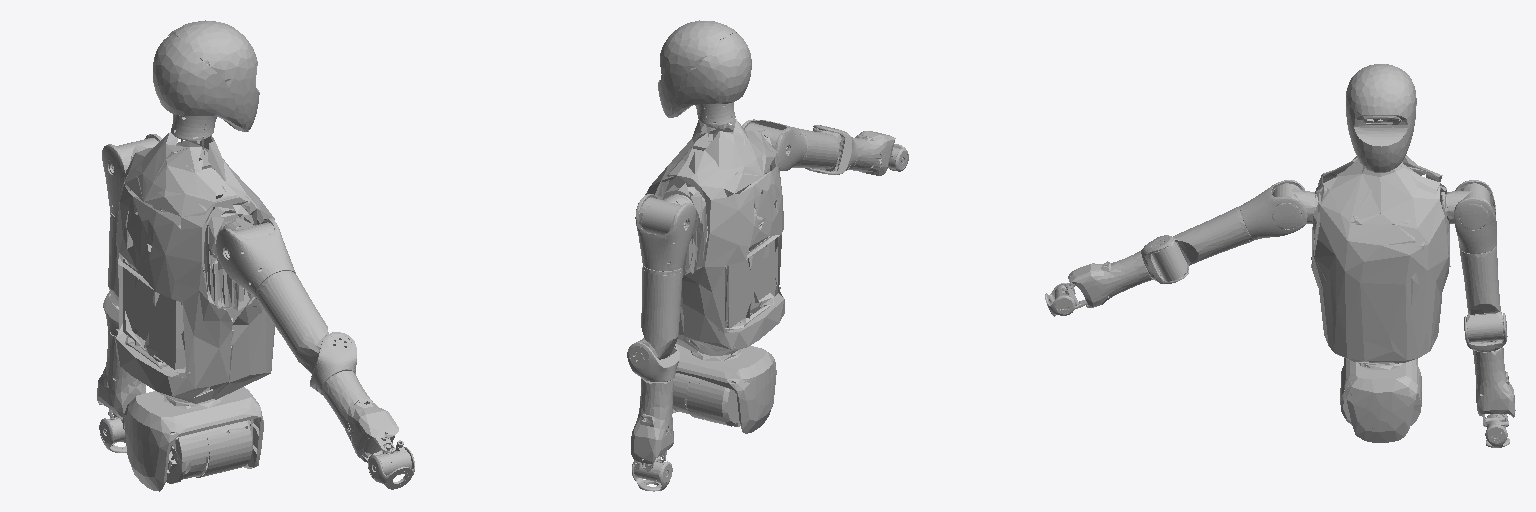
--- Render facts (derived) ---
The picture shows the robot from 3 angles, left to right: view 1: azimuth 30°, elevation 25°; view 2: azimuth 150°, elevation 25°; view 3: azimuth 270°, elevation 25°; orthographic projection.
Robot: humanoid — 38 links, 37 joints (19 revolute, 18 fixed); root link world; default pose: joints at zero except 2 at the middle of their limits (shoulder_roll_r_joint = -1.05, thumb_joint_0 = 0.75).
Visible links, largest first — view 1: waist_yaw_link, pelvis, head_roll_link, shoulder_yaw_r_link, elbow_yaw_r_link, shoulder_roll_r_link, elbow_yaw_l_link, elbow_pitch_r_link, shoulder_roll_l_link, head_yaw_link, wrist_roll_r_link, shoulder_yaw_l_link (+2 smaller); view 2: waist_yaw_link, pelvis, head_roll_link, shoulder_yaw_l_link, elbow_yaw_l_link, shoulder_roll_l_link, elbow_yaw_r_link, elbow_pitch_l_link, shoulder_yaw_r_link, shoulder_pitch_l_link, shoulder_roll_r_link, elbow_pitch_r_link (+1 smaller); view 3: waist_yaw_link, head_roll_link, pelvis, shoulder_yaw_r_link, shoulder_yaw_l_link, elbow_yaw_r_link, shoulder_roll_r_link, shoulder_roll_l_link, elbow_yaw_l_link, elbow_pitch_r_link, shoulder_pitch_l_link, shoulder_pitch_r_link.
Boxes of the visible links, x1,y1,x2,y2 form: waist_yaw_link: (116, 132, 274, 403); pelvis: (124, 387, 263, 491); head_roll_link: (153, 20, 259, 131); shoulder_yaw_r_link: (256, 271, 328, 373); elbow_yaw_r_link: (321, 371, 398, 462); shoulder_roll_r_link: (216, 218, 295, 298); elbow_yaw_l_link: (97, 331, 145, 429); elbow_pitch_r_link: (310, 332, 356, 394); shoulder_roll_l_link: (102, 134, 161, 217); head_yaw_link: (171, 114, 216, 140); wrist_roll_r_link: (368, 447, 414, 489); shoulder_yaw_l_link: (108, 212, 118, 306); waist_yaw_link: (645, 119, 784, 355); pelvis: (673, 344, 776, 433); head_roll_link: (658, 20, 751, 117); shoulder_yaw_l_link: (636, 266, 682, 359); elbow_yaw_l_link: (631, 378, 673, 471); shoulder_roll_l_link: (635, 194, 695, 270); elbow_yaw_r_link: (840, 131, 895, 175); elbow_pitch_l_link: (627, 343, 679, 381); shoulder_yaw_r_link: (792, 127, 841, 171); shoulder_pitch_l_link: (639, 194, 692, 234); shoulder_roll_r_link: (742, 119, 806, 170); elbow_pitch_r_link: (805, 125, 857, 174); waist_yaw_link: (1311, 155, 1450, 365); head_roll_link: (1346, 64, 1416, 172); pelvis: (1340, 358, 1421, 442); shoulder_yaw_r_link: (1152, 206, 1253, 281); shoulder_yaw_l_link: (1460, 246, 1503, 342); elbow_yaw_r_link: (1062, 251, 1152, 308); shoulder_roll_r_link: (1240, 180, 1307, 239); shoulder_roll_l_link: (1454, 180, 1496, 253); elbow_yaw_l_link: (1472, 347, 1515, 426); elbow_pitch_r_link: (1141, 235, 1188, 283); shoulder_pitch_l_link: (1443, 183, 1490, 224); shoulder_pitch_r_link: (1272, 183, 1318, 223).
Bounding box of the posed robot: 0.2687 × 1.08 × 0.9587 m (x, y, z).
Meshes: 32 distinct files referenced, 19 mesh visuals loaded (19 binary STL); not drawn: 13 (reference not matched to a file when rendering).

robot.urdf — humanoid:
<?xml version="1.0" encoding="utf-8"?>
<!-- This URDF was automatically created by SolidWorks to URDF Exporter! Originally created by Stephen Brawner ([email redacted]) 
     Commit Version: 1.6.0-4-g7f85cfe  Build Version: 1.6.7995.38578
     For more information, please see http://wiki.ros.org/sw_urdf_exporter -->
<robot
  name="humanoid">
  <mujoco>
    <compiler meshdir="meshes"/>
  </mujoco>
  <link name="world"/>
  <joint name="pelvis_fixed_joint" type="fixed">
      <origin
        xyz="0 0 0"
        rpy="0 0 0" />
     <parent link="world"/>
     <child link="pelvis"/>
   </joint>
  <link
    name="pelvis">
    <inertial>
      <origin
        xyz="-0.000641 0.000723  -0.074769"
        rpy="0 0 0" />
      <mass
        value="6.094610" />
      <inertia
        ixx="0.020607"
        ixy="0.004335"
        ixz="0.000046"
        iyy="0.027481"
        iyz="-0.000037"
        izz="0.028105" />
    </inertial>
    <visual>
      <origin
        xyz="0 0 0"
        rpy="0 0 0" />
      <geometry>
        <mesh
          filename="pelvis.STL" />
      </geometry>
      <material
        name="">
        <color
          rgba="0.752941176470588 0.752941176470588 0.752941176470588 1" />
      </material>
    </visual>
    <collision>
      <origin
        xyz="0 0 0"
        rpy="0 0 0" />
      <geometry>
        <mesh
          filename="pelvis.STL" />
      </geometry>
    </collision>
  </link>

  <!-- BEGIN LEG LINKS/Joints
  <link
    name="hip_roll_l_link">
    <inertial>
      <origin
        xyz="-0.001848 0.055849 -0.036017"
        rpy="0 0 0" />
      <mass
        value="0.672983" />
      <inertia
        ixx="0.001020"
        ixy="0.000070"
        ixz="-0.000038"
        iyy="0.003221"
        iyz="-0.000281"
        izz="0.003272" />
    </inertial>
    <visual>
      <origin
        xyz="0 0 0"
        rpy="0 0 0" />
      <geometry>
        <mesh
          filename="hip_roll_l_link.STL" />
      </geometry>
      <material
        name="">
        <color
          rgba="0.752941176470588 0.752941176470588 0.752941176470588 1" />
      </material>
    </visual>
    <collision>
      <origin
        xyz="0 0 0"
        rpy="0 0 0" />
      <geometry>
        <mesh
          filename="hip_roll_l_link.STL" />
      </geometry>
    </collision>
  </link>

  <joint
    name="hip_roll_l_joint"
    type="fixed">
    <origin
      xyz="0 0.028 -0.0857"
      rpy="0 0 0" />
    <parent
      link="pelvis" />
    <child
      link="hip_roll_l_link" />
    <axis
      xyz="1 0 0" />
    <limit effort="160" lower="-0.79" upper="0.79" velocity="15.6"/>
  </joint>

  <link
    name="hip_pitch_l_link">
    <inertial>
      <origin
        xyz="0.001125 0.001644 -0.011770"
        rpy="0 0 0" />
      <mass
        value="4.227933" />
      <inertia
        ixx="0.016785"
        ixy="0.000022"
        ixz="-0.000255"
        iyy="0.025135"
        iyz="0.000012"
        izz="0.015273" />
    </inertial>
    <visual>
      <origin
        xyz="0 0 0"
        rpy="0 0 0" />
      <geometry>
        <mesh
          filename="hip_pitch_l_link.STL" />
      </geometry>
      <material
        name="">
        <color
          rgba="0.752941176470588 0.752941176470588 0.752941176470588 1" />
      </material>
    </visual>
    <collision>
      <origin
        xyz="0 0 0"
        rpy="0 0 0" />
      <geometry>
        <mesh
          filename="hip_pitch_l_link.STL" />
      </geometry>
    </collision>
  </link>

  <joint
    name="hip_pitch_l_joint"
    type="fixed">
    <origin
      xyz="0 0.122 -0.046"
      rpy="0 -1.43 0" />
    <parent
      link="hip_roll_l_link" />
    <child
      link="hip_pitch_l_link" />
    <axis
      xyz="0 1 0" />
    <limit effort="300" lower="-2.79" upper="2.09" velocity="12.5"/>
  </joint>

  <link
    name="hip_yaw_l_link">
    <inertial>
      <origin
        xyz="0.004124 -0.006494 -0.119737"
        rpy="0 0 0" />
      <mass
        value="6.572700" />
      <inertia
        ixx="0.056043"
        ixy="0.000146"
        ixz="-0.000059"
        iyy="0.063286"
        iyz="0.001030"
        izz="0.021108" />
    </inertial>
    <visual>
      <origin
        xyz="0 0 0"
        rpy="0 0 0" />
      <geometry>
        <mesh
          filename="hip_yaw_l_link.STL" />
      </geometry>
      <material
        name="">
        <color
          rgba="0.752941176470588 0.752941176470588 0.752941176470588 1" />
      </material>
    </visual>
    <collision>
      <origin
        xyz="0 0 0"
        rpy="0 0 0" />
      <geometry>
        <mesh
          filename="hip_yaw_l_link.STL" />
      </geometry>
    </collision>
  </link>

  <joint
    name="hip_yaw_l_joint"
    type="fixed">
    <origin
      xyz="0 0 -0.0987"
      rpy="0 0 0" />
    <parent
      link="hip_pitch_l_link" />
    <child
      link="hip_yaw_l_link" />
    <axis
      xyz="0 0 1" />
    <limit effort="160" lower="-1.04" upper="1.04" velocity="15.6"/>  
  </joint>

  <link
    name="knee_pitch_l_link">
    <inertial>
      <origin
        xyz="0.007489 0.001584  -0.167773"
        rpy="0 0 0" />
      <mass
        value="3.017992" />
      <inertia
        ixx="0.035604"
        ixy="0.000037"
        ixz="0.001830"
        iyy="0.036226"
        iyz="0.000475"
        izz="0.001951" />
    </inertial>
    <visual>
      <origin
        xyz="0 0 0"
        rpy="0 0 0" />
      <geometry>
        <mesh
          filename="knee_pitch_l_link.STL" />
      </geometry>
      <material
        name="">
        <color
          rgba="0.752941176470588 0.752941176470588 0.752941176470588 1" />
      </material>
    </visual>
    <collision>
      <origin
        xyz="0 0 0"
        rpy="0 0 0" />
      <geometry>
        <mesh
          filename="knee_pitch_l_link.STL" />
      </geometry>
    </collision>
  </link>

  <joint
    name="knee_pitch_l_joint"
    type="fixed">
    <origin
      xyz="0 -4.2833E-05 -0.3013"
      rpy="0 1.65 0" />
    <parent
      link="hip_yaw_l_link" />
    <child
      link="knee_pitch_l_link" />
    <axis
      xyz="0 1 0" />
    <limit effort="300" lower="0.0" upper="2.39" velocity="12.5"/>
  </joint>

  <link
    name="ankle_pitch_l_link">
    <inertial>
      <origin
        xyz="1.23076545482746E-09 5.88533416445713E-10 -3.14193115968919E-14"
        rpy="0 0 0" />
      <mass
        value="0.111609" />
      <inertia
        ixx="0.000018"
        ixy="9.12795578499149E-18"
        ixz="-8.5550749402341E-12"
        iyy="0.000018"
        iyz="2.59346326737996E-11"
        izz="0.000032" />
    </inertial>
    <visual>
      <origin
        xyz="0 0 0"
        rpy="0 0 0" />
      <geometry>
        <mesh
          filename="ankle_pitch_l_link.STL" />
      </geometry>
      <material
        name="">
        <color
          rgba="0.752941176470588 0.752941176470588 0.752941176470588 1" />
      </material>
    </visual>
    <collision>
      <origin
        xyz="0 0 0"
        rpy="0 0 0" />
      <geometry>
        <mesh
          filename="ankle_pitch_l_link.STL" />
      </geometry>
    </collision>
  </link>

  <joint
    name="ankle_pitch_l_joint"
    type="fixed">
    <origin
      xyz="0 0 -0.4"
      rpy="0 0 0" />
    <parent
      link="knee_pitch_l_link" />
    <child
      link="ankle_pitch_l_link" />
    <axis
      xyz="0 1 0" />
    <limit effort="60" lower="-1.22" upper="0.5236" velocity="12.8"/>
  </joint>

  <link
    name="ankle_roll_l_link">
    <inertial>
      <origin
        xyz="0.021235 -4.62707223369829E-08 -0.032883"
        rpy="0 0 0" />
      <mass
        value="1.017381" />
      <inertia
        ixx="0.001028"
        ixy="4.59557401077979E-08"
        ixz="-0.000622"
        iyy="0.006055"
        iyz="4.78117170569023E-10"
        izz="0.006240" />
    </inertial>
    <visual>
      <origin
        xyz="0 0 0"
        rpy="0 0 0" />
      <geometry>
        <mesh
          filename="ankle_roll_l_link.STL" />
      </geometry>
      <material
        name="">
        <color
          rgba="0.752941176470588 0.752941176470588 0.752941176470588 1" />
      </material>
    </visual>
    <collision>
      <origin
        xyz="0 0 0"
        rpy="0 0 0" />
      <geometry>
        <mesh
          filename="ankle_roll_l_link.STL" />
      </geometry>
    </collision>
  </link>

  <joint
    name="ankle_roll_l_joint"
    type="fixed">
    <origin
      xyz="0 0 0"
      rpy="0 0 0" />
    <parent
      link="ankle_pitch_l_link" />
    <child
      link="ankle_roll_l_link" />
    <axis
      xyz="1 0 0" />
    <limit effort="30" lower="-0.4363" upper="0.4363" velocity="7.8"/>
  </joint>

  <link
    name="hip_roll_r_link">
    <inertial>
      <origin
        xyz="-0.001848 -0.055849 -0.036017"
        rpy="0 0 0" />
      <mass
        value="0.672983" />
      <inertia
        ixx="0.001020"
        ixy="-0.000070"
        ixz="-0.000038"
        iyy="0.003221"
        iyz="0.000281"
        izz="0.003272" />
    </inertial>
    <visual>
      <origin
        xyz="0 0 0"
        rpy="0 0 0" />
      <geometry>
        <mesh
          filename="hip_roll_r_link.STL" />
      </geometry>
      <material
        name="">
        <color
          rgba="0.752941176470588 0.752941176470588 0.752941176470588 1" />
      </material>
    </visual>
    <collision>
      <origin
        xyz="0 0 0"
        rpy="0 0 0" />
      <geometry>
        <mesh
          filename="hip_roll_r_link.STL" />
      </geometry>
    </collision>
  </link>
  <joint
    name="hip_roll_r_joint"
    type="fixed">
    <origin
      xyz="0 -0.028 -0.0857"
      rpy="0 0 0" />
    <parent
      link="pelvis" />
    <child
      link="hip_roll_r_link" />
    <axis
      xyz="1 0 0" />
    <limit effort="160" lower="-0.79" upper="0.79" velocity="15.6"/>
  </joint>
  <link
    name="hip_pitch_r_link">
    <inertial>
      <origin
        xyz="0.001125 -0.001644 -0.011770"
        rpy="0 0 0" />
      <mass
        value="4.227933" />
      <inertia
        ixx="0.016785"
        ixy="-0.000022"
        ixz="-0.000255"
        iyy="0.025135"
        iyz="-0.000012"
        izz="0.015273" />
    </inertial>
    <visual>
      <origin
        xyz="0 0 0"
        rpy="0 0 0" />
      <geometry>
        <mesh
          filename="hip_pitch_r_link.STL" />
      </geometry>
      <material
        name="">
        <color
          rgba="0.752941176470588 0.752941176470588 0.752941176470588 1" />
      </material>
    </visual>
    <collision>
      <origin
        xyz="0 0 0"
        rpy="0 0 0" />
      <geometry>
        <mesh
          filename="hip_pitch_r_link.STL" />
      </geometry>
    </collision>
  </link>
  <joint
    name="hip_pitch_r_joint"
    type="fixed">
    <origin
      xyz="0 -0.122 -0.046"
      rpy="0 -1.43 0" />
    <parent
      link="hip_roll_r_link" />
    <child
      link="hip_pitch_r_link" />
    <axis
      xyz="0 1 0" />
    <limit effort="300" lower="-2.79" upper="2.09" velocity="12.5"/>
  </joint>
  <link
    name="hip_yaw_r_link">
    <inertial>
      <origin
        xyz="0.003740 0.005658 -0.117755"
        rpy="0 0 0" />
      <mass
        value="7.182896" />
      <inertia
        ixx="0.057773"
        ixy="-0.000105"
        ixz="-0.000124"
        iyy="0.064848"
        iyz="-0.001431"
        izz="0.022867" />
    </inertial>
    <visual>
      <origin
        xyz="0 0 0"
        rpy="0 0 0" />
      <geometry>
        <mesh
          filename="hip_yaw_r_link.STL" />
      </geometry>
      <material
        name="">
        <color
          rgba="0.752941176470588 0.752941176470588 0.752941176470588 1" />
      </material>
    </visual>
    <collision>
      <origin
        xyz="0 0 0"
        rpy="0 0 0" />
      <geometry>
        <mesh
          filename="hip_yaw_r_link.STL" />
      </geometry>
    </collision>
  </link>
  <joint
    name="hip_yaw_r_joint"
    type="fixed">
    <origin
      xyz="0 0 -0.0987"
      rpy="0 0 0" />
    <parent
      link="hip_pitch_r_link" />
    <child
      link="hip_yaw_r_link" />
    <axis
      xyz="0 0 1" />
    <limit effort="160" lower="-1.04" upper="1.04" velocity="15.6"/>  
  </joint>

  <link
    name="knee_pitch_r_link">
    <inertial>
      <origin
        xyz="0.007489 -0.001584  -0.167773"
        rpy="0 0 0" />
      <mass
        value="3.017992" />
      <inertia
        ixx="0.035604"
        ixy="-0.000037"
        ixz="0.001830"
        iyy="0.036226"
        iyz="-0.000475"
        izz="0.001951" />
    </inertial>
    <visual>
      <origin
        xyz="0 0 0"
        rpy="0 0 0" />
      <geometry>
        <mesh
          filename="knee_pitch_r_link.STL" />
      </geometry>
      <material
        name="">
        <color
          rgba="0.752941176470588 0.752941176470588 0.752941176470588 1" />
      </material>
    </visual>
    <collision>
      <origin
        xyz="0 0 0"
        rpy="0 0 0" />
      <geometry>
        <mesh
          filename="knee_pitch_r_link.STL" />
      </geometry>
    </collision>
  </link>

  <joint
    name="knee_pitch_r_joint"
    type="fixed">
    <origin
      xyz="0 0.00015001 -0.3013"
      rpy="0 1.65 0" />
    <parent
      link="hip_yaw_r_link" />
    <child
      link="knee_pitch_r_link" />
    <axis
      xyz="0 1 0" />
    <limit effort="300" lower="0.0" upper="2.39" velocity="12.5"/>
  </joint>

  <link
    name="ankle_pitch_r_link">
    <inertial>
      <origin
        xyz="1.23076545482746E-09 -5.88533416445713E-10 -3.14193115968919E-14"
        rpy="0 0 0" />
      <mass
        value="0.111609" />
      <inertia
        ixx="0.000018"
        ixy="-9.12795578499149E-18"
        ixz="-8.5550749402341E-12"
        iyy="0.000018"
        iyz="-2.59346326737996E-11"
        izz="0.000032" />
    </inertial>
    <visual>
      <origin
        xyz="0 0 0"
        rpy="0 0 0" />
      <geometry>
        <mesh
          filename="ankle_pitch_r_link.STL" />
      </geometry>
      <material
        name="">
        <color
          rgba="0.752941176470588 0.752941176470588 0.752941176470588 1" />
      </material>
    </visual>
    <collision>
      <origin
        xyz="0 0 0"
        rpy="0 0 0" />
      <geometry>
        <mesh
          filename="ankle_pitch_r_link.STL" />
      </geometry>
    </collision>
  </link>

  <joint
    name="ankle_pitch_r_joint"
    type="fixed">
    <origin
      xyz="0 0.00074981 -0.4"
      rpy="0 0 0" />
    <parent
      link="knee_pitch_r_link" />
    <child
      link="ankle_pitch_r_link" />
    <axis
      xyz="0 1 0" />
    <limit effort="60" lower="-1.22" upper="0.5236" velocity="12.8"/>
  </joint>

  <link
    name="ankle_roll_r_link">
    <inertial>
      <origin
        xyz="0.021235 4.62707223369829E-08 -0.032883"
        rpy="0 0 0" />
      <mass
        value="1.017381" />
      <inertia
        ixx="0.001028"
        ixy="-4.59557401077979E-08"
        ixz="-0.000622"
        iyy="0.006055"
        iyz="-4.78117170569023E-10"
        izz="0.006240" />
    </inertial>
    <visual>
      <origin
        xyz="0 0 0"
        rpy="0 0 0" />
      <geometry>
        <mesh
          filename="ankle_roll_r_link.STL" />
      </geometry>
      <material
        name="">
        <color
          rgba="0.752941176470588 0.752941176470588 0.752941176470588 1" />
      </material>
    </visual>
    <collision>
      <origin
        xyz="0 0 0"
        rpy="0 0 0" />
      <geometry>
        <mesh
          filename="ankle_roll_r_link.STL" />
      </geometry>
    </collision>
  </link>

  <joint
    name="ankle_roll_r_joint"
    type="fixed">
    <origin
      xyz="0 0 0"
      rpy="0 0 0" />
    <parent
      link="ankle_pitch_r_link" />
    <child
      link="ankle_roll_r_link" />
    <axis
      xyz="1 0 0" />
    <limit effort="30" lower="-0.4363" upper="0.4363" velocity="7.8"/>
  </joint>
  END LEG LINKS/Joints -->

  <link
    name="waist_yaw_link">
    <inertial>
      <origin
        xyz="-0.000568 0.000560 0.231488"
        rpy="0 0 0" />
      <mass
        value="22.445155" />
      <inertia
        ixx="0.429034"
        ixy="-0.000293"
        ixz="0.003462"
        iyy="0.379055"
        iyz="-0.000237"
        izz="0.177142" />
    </inertial>
    <visual>
      <origin
        xyz="0 0 0"
        rpy="0 0 0" />
      <geometry>
        <mesh
          filename="waist_yaw_link.STL" />
      </geometry>
      <material
        name="">
        <color
          rgba="0.752941176470588 0.752941176470588 0.752941176470588 1" />
      </material>
    </visual>
    <collision>
      <origin
        xyz="0 0 0"
        rpy="0 0 0" />
      <geometry>
        <mesh
          filename="waist_yaw_link.STL" />
      </geometry>
    </collision>
  </link>

  <joint
    name="waist_yaw_joint"
    type="fixed">
    <origin
      xyz="0 0 0"
      rpy="0 0 0" />
    <parent
      link="pelvis" />
    <child
      link="waist_yaw_link" />
    <axis
      xyz="0 0 1" />
    <limit effort="120" lower="-2.96" upper="3.14" velocity="7.0"/>
  </joint>

  <link
    name="head_yaw_link">
    <inertial>
      <origin
        xyz="-0.000198116284628826 0.000454283135208022 0.00724627742538442"
        rpy="0 0 0" />
      <mass
        value="0.0883927289639252" />
      <inertia
        ixx="0.000095"
        ixy="0.000001"
        ixz="0.000003"
        iyy="0.000076"
        iyz="0.000003"
        izz="0.000106" />
    </inertial>
    <visual>
      <origin
        xyz="0 0 0"
        rpy="0 0 0" />
      <geometry>
        <mesh
          filename="head_yaw_link.STL" />
      </geometry>
      <material
        name="">
        <color
          rgba="0.752941176470588 0.752941176470588 0.752941176470588 1" />
      </material>
    </visual>
    <collision>
      <origin
        xyz="0 0 0"
        rpy="0 0 0" />
      <geometry>
        <mesh
          filename="head_yaw_link.STL" />
      </geometry>
    </collision>
  </link>

  <joint
    name="head_yaw_joint"
    type="fixed">
    <origin
      xyz="-0.002 0 0.56508"
      rpy="0 0 0" />
    <parent
      link="waist_yaw_link" />
    <child
      link="head_yaw_link" />
    <axis
      xyz="0 0 1" />
    <limit effort="9" lower="-1.57" upper="1.57" velocity="7.2"/>
  </joint>

  <link
    name="head_pitch_link">
    <inertial>
      <origin
        xyz="-0.000274 0.004118 0.000023"
        rpy="0 0 0" />
      <mass
        value="0.230460" />
      <inertia
        ixx="0.000092"
        ixy="-0.000001"
        ixz="0.000001"
        iyy="0.000054"
        iyz="-7.30725289619866E-08"
        izz="0.000095" />
    </inertial>
    <visual>
      <origin
        xyz="0 0 0"
        rpy="0 0 0" />
      <geometry>
        <mesh
          filename="head_pitch_link.STL" />
      </geometry>
      <material
        name="">
        <color
          rgba="0.752941176470588 0.752941176470588 0.752941176470588 1" />
      </material>
    </visual>
    <collision>
      <origin
        xyz="0 0 0"
        rpy="0 0 0" />
      <geometry>
        <mesh
          filename="head_pitch_link.STL" />
      </geometry>
    </collision>
  </link>

  <joint
    name="head_pitch_joint"
    type="fixed">
    <origin
      xyz="0.01455 0 0.0304"
      rpy="0 0.2618 0" />
    <parent
      link="head_yaw_link" />
    <child
      link="head_pitch_link" />
    <axis
      xyz="0 1 0" />
    <limit effort="9" lower="-0.43" upper="0.43" velocity="7.2"/>
  </joint>

  <link
    name="head_roll_link">
    <inertial>
      <origin
        xyz="0.022467 0.001208  0.053952"
        rpy="0 0 0" />
      <mass
        value="0.844627" />
      <inertia
        ixx="0.002350"
        ixy="-0.000038"
        ixz="-0.000436"
        iyy="0.003365"
        iyz="-0.000006"
        izz="0.002875" />
    </inertial>
    <visual>
      <origin
        xyz="0 0 0"
        rpy="0 0 0" />
      <geometry>
        <mesh
          filename="head_roll_link.STL" />
      </geometry>
      <material
        name="">
        <color
          rgba="0.752941176470588 0.752941176470588 0.752941176470588 1" />
      </material>
    </visual>
    <collision>
      <origin
        xyz="0 0 0"
        rpy="0 0 0" />
      <geometry>
        <mesh
          filename="head_roll_link.STL" />
      </geometry>
    </collision>
  </link>

  <joint
    name="head_roll_joint"
    type="fixed">
    <origin
      xyz="0 0 0"
      rpy="0 0 0" />
    <parent
      link="head_pitch_link" />
    <child
      link="head_roll_link" />
    <axis
      xyz="1 0 0" />
    <limit effort="9" lower="-0.43" upper="0.43" velocity="7.2"/>
  </joint>

  <link
    name="shoulder_pitch_l_link">
    <inertial>
      <origin
        xyz="0.007540 0.064361 -0.000037"
        rpy="0 0 0" />
      <mass
        value="1.030628" />
      <inertia
        ixx="0.000536"
        ixy="0.000025"
        ixz="1.26194941072712E-08"
        iyy="0.000480"
        iyz="2.95758293199811E-08"
        izz="0.000636" />
    </inertial>
    <visual>
      <origin
        xyz="0 0 0"
        rpy="0 0 0" />
      <geometry>
        <mesh
          filename="shoulder_pitch_l_link.STL" />
      </geometry>
      <material
        name="">
        <color
          rgba="0.752941176470588 0.752941176470588 0.752941176470588 1" />
      </material>
    </visual>
    <collision>
      <origin
        xyz="0 0 0"
        rpy="0 0 0" />
      <geometry>
        <mesh
          filename="shoulder_pitch_l_link.STL" />
      </geometry>
    </collision>
  </link>

  <joint
    name="shoulder_pitch_l_joint"
    type="fixed">
    <origin
      xyz="0 0.14539 0.37721"
      rpy="0.087266 0 0" />
    <parent
      link="waist_yaw_link" />
    <child
      link="shoulder_pitch_l_link" />
    <axis
      xyz="0 1 0" />
    <limit effort="91" lower="-2.96" upper="2.96" velocity="8.8"/>
  </joint>

  <link
    name="shoulder_roll_l_link">
    <inertial>
      <origin
        xyz="0.00106653447924365 0.00220628914286614 -0.0441160803631309"
        rpy="0 0 0" />
      <mass
        value="0.412600522097283" />
      <inertia
        ixx="0.000939"
        ixy="0.000001"
        ixz="0.000001"
        iyy="0.001264"
        iyz="0.000005"
        izz="0.000896" />
    </inertial>
    <visual>
      <origin
        xyz="0 0 0"
        rpy="0 0 0" />
      <geometry>
        <mesh
          filename="shoulder_roll_l_link.STL" />
      </geometry>
      <material
        name="">
        <color
          rgba="0.752941176470588 0.752941176470588 0.752941176470588 1" />
      </material>
    </visual>
    <collision>
      <origin
        xyz="0 0 0"
        rpy="0 0 0" />
      <geometry>
        <mesh
          filename="shoulder_roll_l_link.STL" />
      </geometry>
    </collision>
  </link>

  <joint
    name="shoulder_roll_l_joint"
    type="fixed">
    <origin
      xyz="0 0.068 0"
      rpy="0 0 0" />
    <parent
      link="shoulder_pitch_l_link" />
    <child
      link="shoulder_roll_l_link" />
    <axis
      xyz="1 0 0" />
    <limit effort="60" lower="-0.2618" upper="3.4" velocity="12"/>
  </joint>

  <link
    name="shoulder_yaw_l_link">
    <inertial>
      <origin
        xyz="0.008387 0.003730 -0.112290"
        rpy="0 0 0" />
      <mass
        value="1.307604" />
      <inertia
        ixx="0.009261"
        ixy="0.000052"
        ixz="-0.000968"
        iyy="0.009283"
        iyz="-0.000413"
        izz="0.000836" />
    </inertial>
    <visual>
      <origin
        xyz="0 0 0"
        rpy="0 0 0" />
      <geometry>
        <mesh
          filename="shoulder_yaw_l_link.STL" />
      </geometry>
      <material
        name="">
        <color
          rgba="0.752941176470588 0.752941176470588 0.752941176470588 1" />
      </material>
    </visual>
    <collision>
      <origin
        xyz="0 0 0"
        rpy="0 0 0" />
      <geometry>
        <mesh
          filename="shoulder_yaw_l_link.STL" />
      </geometry>
    </collision>
  </link>

  <joint
    name="shoulder_yaw_l_joint"
    type="fixed">
    <origin
      xyz="0 0 -0.1025"
      rpy="0 0 0" />
    <parent
      link="shoulder_roll_l_link" />
    <child
      link="shoulder_yaw_l_link" />
    <axis
      xyz="0 0 1" />
    <limit effort="30" lower="-2.96" upper="2.96" velocity="7.3"/>
  </joint>

  <link
    name="elbow_pitch_l_link">
    <inertial>
      <origin
        xyz="-0.014369 -0.000090 -0.024267"
        rpy="0 0 0" />
      <mass
        value="0.222661" />
      <inertia
        ixx="0.000364"
        ixy="-0.000001"
        ixz="0.000010"
        iyy="0.000208"
        iyz="-3.96645947452354E-05"
        izz="0.000387" />
    </inertial>
    <visual>
      <origin
        xyz="0 0 0"
        rpy="0 0 0" />
      <geometry>
        <mesh
          filename="elbow_pitch_l_link.STL" />
      </geometry>
      <material
        name="">
        <color
          rgba="0.752941176470588 0.752941176470588 0.752941176470588 1" />
      </material>
    </visual>
    <collision>
      <origin
        xyz="0 0 0"
        rpy="0 0 0" />
      <geometry>
        <mesh
          filename="elbow_pitch_l_link.STL" />
      </geometry>
    </collision>
  </link>

  <joint
    name="elbow_pitch_l_joint"
    type="fixed">
    <origin
      xyz="0.02 0 -0.1975"
      rpy="0 0 0" />
    <parent
      link="shoulder_yaw_l_link" />
    <child
      link="elbow_pitch_l_link" />
    <axis
      xyz="0 1 0" />
    <limit effort="30" lower="-2.61" upper="0.261" velocity="7.3"/>
  </joint>


  <link
    name="elbow_yaw_l_link">
    <inertial>
      <origin
        xyz="0.000080 0.001150 -0.069083"
        rpy="0 0 0" />
      <mass
        value="0.990079" />
      <inertia
        ixx="0.002961"
        ixy="0.000001"
        ixz="-0.000003"
        iyy="0.002878"
        iyz="-0.000062"
        izz="0.000422" />
    </inertial>
    <visual>
      <origin
        xyz="0 0 0"
        rpy="0 0 0" />
      <geometry>
        <mesh
          filename="elbow_yaw_l_link.STL" />
      </geometry>
      <material
        name="">
        <color
          rgba="0.752941176470588 0.752941176470588 0.752941176470588 1" />
      </material>
    </visual>
    <collision>
      <origin
        xyz="0 0 0"
        rpy="0 0 0" />
      <geometry>
        <mesh
          filename="elbow_yaw_l_link.STL" />
      </geometry>
    </collision>
  </link>

  <joint
    name="elbow_yaw_l_joint"
    type="fixed">
    <origin
      xyz="-0.02 0 -0.0543"
      rpy="0 0 0" />
    <parent
      link="elbow_pitch_l_link" />
    <child
      link="elbow_yaw_l_link" />
    <axis
      xyz="0 0 1" />
    <limit effort="15" lower="-2.9671" upper="2.9671" velocity="14.6"/>
  </joint>

  <link
    name="wrist_pitch_l_link">
    <inertial>
      <origin
        xyz="0.005341 0.000652 -0.018511"
        rpy="0 0 0" />
      <mass
        value="0.266415" />
      <inertia
        ixx="0.000074"
        ixy="0.000003"
        ixz="0.000002"
        iyy="0.000114"
        iyz="0.000003"
        izz="0.000113" />
    </inertial>
    <visual>
      <origin
        xyz="0 0 0"
        rpy="0 0 0" />
      <geometry>
        <mesh
          filename="wrist_pitch_l_link.STL" />
      </geometry>
      <material
        name="">
        <color
          rgba="0.752941176470588 0.752941176470588 0.752941176470588 1" />
      </material>
    </visual>
    <collision>
      <origin
        xyz="0 0 0"
        rpy="0 0 0" />
      <geometry>
        <mesh
          filename="wrist_pitch_l_link.STL" />
      </geometry>
    </collision>
  </link>

  <joint
    name="wrist_pitch_l_joint"
    type="fixed">
    <origin
      xyz="0 0.002 -0.1887"
      rpy="0 0 0" />
    <parent
      link="elbow_yaw_l_link" />
    <child
      link="wrist_pitch_l_link" />
    <axis
      xyz="0 1 0" />
    <limit effort="9" lower="-1.3" upper="1.65" velocity="7.2"/>
  </joint>

  <link
    name="wrist_roll_l_link">
    <inertial>
      <origin
        xyz="0.001596 0.000155  -0.018822"
        rpy="0 0 0" />
      <mass
        value="0.065684" />
      <inertia
        ixx="0.000033"
        ixy="-1.01838157154324E-07"
        ixz="0.000001"
        iyy="0.000073"
        iyz="-2.28155013652257E-07"
        izz="0.000064" />
    </inertial>
    <visual>
      <origin
        xyz="0 0 0"
        rpy="0 0 0" />
      <geometry>
        <mesh
          filename="wrist_roll_l_link.STL" />
      </geometry>
      <material
        name="">
        <color
          rgba="0.752941176470588 0.752941176470588 0.752941176470588 1" />
      </material>
    </visual>
    <collision>
      <origin
        xyz="0 0 0"
        rpy="0 0 0" />
      <geometry>
        <mesh
          filename="wrist_roll_l_link.STL" />
      </geometry>
    </collision>
  </link>

  <joint
    name="wrist_roll_l_joint"
    type="fixed">
    <origin
      xyz="5.0485E-05 0 -0.02"
      rpy="0 0 0" />
    <parent
      link="wrist_pitch_l_link" />
    <child
      link="wrist_roll_l_link" />
    <axis
      xyz="1 0 0" />
    <limit effort="9" lower="-1.04" upper="0.785" velocity="7.2"/>
  </joint>

  <link
    name="shoulder_pitch_r_link">
    <inertial>
      <origin
        xyz="0.007540 -0.064361 -0.000037"
        rpy="0 0 0" />
      <mass
        value="1.030628" />
      <inertia
        ixx="0.000536"
        ixy="-0.000025"
        ixz="1.26194941072712E-08"
        iyy="0.000480"
        iyz="-2.95758293199811E-08"
        izz="0.000636" />
    </inertial>
    <visual>
      <origin
        xyz="0 0 0"
        rpy="0 0 0" />
      <geometry>
        <mesh
          filename="shoulder_pitch_r_link.STL" />
      </geometry>
      <material
        name="">
        <color
          rgba="0.752941176470588 0.752941176470588 0.752941176470588 1" />
      </material>
    </visual>
    <collision>
      <origin
        xyz="0 0 0"
        rpy="0 0 0" />
      <geometry>
        <mesh
          filename="shoulder_pitch_r_link.STL" />
      </geometry>
    </collision>
  </link>
  
  <joint
    name="shoulder_pitch_r_joint"
    type="revolute">
    <origin
      xyz="0 -0.14539 0.37721"
      rpy="-0.087266 0 0" />
    <parent
      link="waist_yaw_link" />
    <child
      link="shoulder_pitch_r_link" />
    <axis
      xyz="0 1 0" />
    <limit effort="91" lower="-2.96" upper="0" velocity="8.8"/>
  </joint>

  <link
    name="shoulder_roll_r_link">
    <inertial>
      <origin
        xyz="0.00106653447924365 -0.00220628914286614 -0.0441160803631309"
        rpy="0 0 0" />
      <mass
        value="0.412600522097283" />
      <inertia
        ixx="0.000939"
        ixy="-0.000001"
        ixz="0.000001"
        iyy="0.001264"
        iyz="-0.000005"
        izz="0.000896" />
    </inertial>
    <visual>
      <origin
        xyz="0 0 0"
        rpy="0 0 0" />
      <geometry>
        <mesh
          filename="shoulder_roll_r_link.STL" />
      </geometry>
      <material
        name="">
        <color
          rgba="0.752941176470588 0.752941176470588 0.752941176470588 1" />
      </material>
    </visual>
    <collision>
      <origin
        xyz="0 0 0"
        rpy="0 0 0" />
      <geometry>
        <mesh
          filename="shoulder_roll_r_link.STL" />
      </geometry>
    </collision>
  </link>
  <joint
    name="shoulder_roll_r_joint"
    type="revolute">
    <origin
      xyz="0 -0.068 0"
      rpy="0 0 0" />
    <parent
      link="shoulder_pitch_r_link" />
    <child
      link="shoulder_roll_r_link" />
    <axis
      xyz="1 0 0" />
    <limit effort="60" lower="-2.0" upper="-0.1" velocity="12"/>
  </joint>
  <link
    name="shoulder_yaw_r_link">
    <inertial>
      <origin
        xyz="0.008387 -0.003730 -0.112290"
        rpy="0 0 0" />
      <mass
        value="1.307604" />
      <inertia
        ixx="0.009261"
        ixy="-0.000052"
        ixz="-0.000968"
        iyy="0.009283"
        iyz="0.000413"
        izz="0.000836" />
    </inertial>
    <visual>
      <origin
        xyz="0 0 0"
        rpy="0 0 0" />
      <geometry>
        <mesh
          filename="shoulder_yaw_r_link.STL" />
      </geometry>
      <material
        name="">
        <color
          rgba="0.752941176470588 0.752941176470588 0.752941176470588 1" />
      </material>
    </visual>
    <collision>
      <origin
        xyz="0 0 0"
        rpy="0 0 0" />
      <geometry>
        <mesh
          filename="shoulder_yaw_r_link.STL" />
      </geometry>
    </collision>
  </link>
  <joint
    name="shoulder_yaw_r_joint"
    type="revolute">
    <origin
      xyz="0 0 -0.1025"
      rpy="0 0 0" />
    <parent
      link="shoulder_roll_r_link" />
    <child
      link="shoulder_yaw_r_link" />
    <axis
      xyz="0 0 1" />
    <limit effort="30" lower="0" upper="2.5" velocity="7.3"/>
  </joint>
  <link
    name="elbow_pitch_r_link">
    <inertial>
      <origin
        xyz="-0.014369 0.000090 -0.024267"
        rpy="0 0 0" />
      <mass
        value="0.222661" />
      <inertia
        ixx="0.000364"
        ixy="0.000001"
        ixz="0.000010"
        iyy="0.000208"
        iyz="3.96645947452354E-05"
        izz="0.000387" />
    </inertial>
    <visual>
      <origin
        xyz="0 0 0"
        rpy="0 0 0" />
      <geometry>
        <mesh
          filename="elbow_pitch_r_link.STL" />
      </geometry>
      <material
        name="">
        <color
          rgba="0.752941176470588 0.752941176470588 0.752941176470588 1" />
      </material>
    </visual>
    <collision>
      <origin
        xyz="0 0 0"
        rpy="0 0 0" />
      <geometry>
        <mesh
          filename="elbow_pitch_r_link.STL" />
      </geometry>
    </collision>
  </link>
  <joint
    name="elbow_pitch_r_joint"
    type="revolute">
    <origin
      xyz="0.02 0 -0.1975"
      rpy="0 0 0" />
    <parent
      link="shoulder_yaw_r_link" />
    <child
      link="elbow_pitch_r_link" />
    <axis
      xyz="0 1 0" />
    <limit effort="30" lower="-2.0" upper="0.0" velocity="7.3"/>
  </joint>
  <link
    name="elbow_yaw_r_link">
    <inertial>
      <origin
        xyz="0.000080 0.001150 -0.069083"
        rpy="0 0 0" />
      <mass
        value="0.990079" />
      <inertia
        ixx="0.002961"
        ixy="0.000001"
        ixz="-0.000003"
        iyy="0.002878"
        iyz="-0.000062"
        izz="0.000422" />
    </inertial>
    <visual>
      <origin
        xyz="0 0 0"
        rpy="0 0 0" />
      <geometry>
        <mesh
          filename="elbow_yaw_r_link.STL" />
      </geometry>
      <material
        name="">
        <color
          rgba="0.752941176470588 0.752941176470588 0.752941176470588 1" />
      </material>
    </visual>
    <collision>
      <origin
        xyz="0 0 0"
        rpy="0 0 0" />
      <geometry>
        <mesh
          filename="elbow_yaw_r_link.STL" />
      </geometry>
    </collision>
  </link>
  <joint
    name="elbow_yaw_r_joint"
    type="revolute">
    <origin
      xyz="-0.02 0 -0.0543"
      rpy="0 0 0" />
    <parent
      link="elbow_pitch_r_link" />
    <child
      link="elbow_yaw_r_link" />
    <axis
      xyz="0 0 1" />
    <limit effort="15" lower="-2.9671" upper="2.9671" velocity="14.6"/>
  </joint>
  <link
    name="wrist_pitch_r_link">
    <inertial>
      <origin
        xyz="0.005341 -0.000652 -0.018511"
        rpy="0 0 0" />
      <mass
        value="0.266415" />
      <inertia
        ixx="0.000074"
        ixy="-0.000003"
        ixz="0.000002"
        iyy="0.000114"
        iyz="-0.000003"
        izz="0.000113" />
    </inertial>
    <visual>
      <origin
        xyz="0 0 0"
        rpy="0 0 0" />
      <geometry>
        <mesh
          filename="wrist_pitch_r_link.STL" />
      </geometry>
      <material
        name="">
        <color
          rgba="0.752941176470588 0.752941176470588 0.752941176470588 1" />
      </material>
    </visual>
    <collision>
      <origin
        xyz="0 0 0"
        rpy="0 0 0" />
      <geometry>
        <mesh
          filename="wrist_pitch_r_link.STL" />
      </geometry>
    </collision>
  </link>
  <joint
    name="wrist_pitch_r_joint"
    type="revolute">
    <origin
      xyz="0 -0.002 -0.1887"
      rpy="0 0 0" />
    <parent
      link="elbow_yaw_r_link" />
    <child
      link="wrist_pitch_r_link" />
    <axis
      xyz="0 1 0" />
    <limit effort="9" lower="-0.5" upper="0.6" velocity="7.2"/>
  </joint>
  <link
    name="wrist_roll_r_link">
    <inertial>
      <origin
        xyz="0.001596 -0.000155  -0.018822"
        rpy="0 0 0" />
      <mass
        value="0.065684" />
      <inertia
        ixx="0.000033"
        ixy="1.01838157154324E-07"
        ixz="0.000001"
        iyy="0.000073"
        iyz="2.28155013652257E-07"
        izz="0.000064" />
    </inertial>
    <visual>
      <origin
        xyz="0 0 0"
        rpy="0 0 0" />
      <geometry>
        <mesh
          filename="wrist_roll_r_link.STL" />
      </geometry>
      <material
        name="">
        <color
          rgba="0.752941176470588 0.752941176470588 0.752941176470588 1" />
      </material>
    </visual>
    <collision>
      <origin
        xyz="0 0 0"
        rpy="0 0 0" />
      <geometry>
        <mesh
          filename="wrist_roll_r_link.STL" />
      </geometry>
    </collision>
  </link>
  <joint
    name="wrist_roll_r_joint"
    type="revolute">
    <origin
      xyz="5.0485E-05 0 -0.02"
      rpy="0 0 0" />
    <parent
      link="wrist_pitch_r_link" />
    <child
      link="wrist_roll_r_link" />
    <axis
      xyz="1 0 0" />
    <limit effort="9" lower="-0.5" upper="0.5" velocity="7.2"/>
  </joint>

  <!-- hand part -->
  <!-- right hand -->
  <joint name="tg2_hand_fixed" type="fixed">
    <!-- <origin xyz="0.5 0.5 0.5" rpy="-1.5707963 0 0" /> -->
    <origin xyz="0.0 0.0 -0.0375" rpy="1.5707963 0 -1.5707963" />
    <parent link="wrist_roll_r_link"/>
    <child link="palm"/>
  </joint>
  
  <!-- <link name="inspirehand_mount">
    <inertial>
      <origin xyz="0 0 0" rpy="0 0 0" />
      <mass value="0.05" />
      <inertia ixx="1e-4" ixy="0" ixz="0" iyy="1e-4" iyz="0" izz="1e-4" />
    </inertial>
    <visual>
      <origin xyz="0 0 0" rpy="0 0 0" />
      <geometry>
        <box size="0.001 0.001 0.001" />
      </geometry>
    </visual>
    <collision>
      <origin xyz="0 0 0" rpy="0 0 0" />
      <geometry>
        <box size="0.001 0.001 0.001" />
      </geometry>
    </collision>
  </link>

  <joint name="inspirehand_mount_joint" type="fixed">
    <origin xyz="0 -0.07 0" rpy="0 -1.5708 0" />
    <parent link="inspirehand_mount" />
    <child link="palm" />
  </joint> -->

  <link
    name="palm">
    <inertial>
      <origin
        xyz="-0.0025264 -0.066047 0.0019598"
        rpy="0 0 0" />
      <mass
        value="0.3" />
      <inertia
        ixx="0.00012281"
        ixy="2.1711E-06"
        ixz="1.7709E-06"
        iyy="8.3831E-05"
        iyz="-1.655E-06"
        izz="7.6663E-05" />
    </inertial>
    <visual>
      <origin
        xyz="0 0 0"
        rpy="0 0 0" />
      <geometry>
        <mesh
          filename="palm.STL" />
      </geometry>
      <material
        name="">
        <color
          rgba="1 1 1 1" />
      </material>
    </visual>
    <collision>
      <origin
        xyz="0 0 0"
        rpy="0 0 0" />
      <geometry>
        <mesh
          filename="palm.STL" />
      </geometry>
    </collision>
  </link>

  <!-- Helper link to visualize palm +Z direction -->
  <!-- Offset along palm +Z by 5 cm; adjust if needed -->
  <!-- <joint name="palm_dir_joint" type="fixed">
    
    <origin xyz="-0.2 0.0 0.0" rpy="0 0 0" />
    <parent link="palm" />
    <child link="palm_dir" />
  </joint> -->

  <!-- offset along finger direction
  <joint name="palm_dir_joint" type="fixed">
    
    <origin xyz="0.0 -1.0 0.0" rpy="0 0 0" />
    <parent link="palm" />
    <child link="palm_dir" />
  </joint> -->

  <!-- <link name="palm_dir">
    <inertial>
      <origin xyz="0 0 0" rpy="0 0 0" />
      <mass value="0.0001" />
      <inertia ixx="1e-8" ixy="0" ixz="0" iyy="1e-8" iyz="0" izz="1e-8" />
    </inertial>
    <visual>
      <origin xyz="0 0 0" rpy="0 0 0" />
      <geometry>
        <box size="0.02 0.02 0.02" />
      </geometry>
      <material name="PalmDirMat">
        <color rgba="0 0 1 1" />
      </material>
    </visual>
    <collision>
      <origin xyz="0 0 0" rpy="0 0 0" />
      <geometry>
        <box size="0.02 0.02 0.02" />
      </geometry>
    </collision>
  </link> -->

  <!-- index finger -->
  <joint
    name="index_joint_0"
    type="revolute">
    <origin
      xyz="0.00028533 -0.1366 -0.027269"
      rpy="-0.034907 0 3.1416" />
  <parent link="palm" />
  <child link="index_link_0" />
    <axis xyz="0 0 -1" />
    <limit
      lower="0"
      upper="1.1"
      effort="50"
      velocity="1" />
  </joint>

  <link
    name="index_link_0">
    <inertial>
      <origin
        xyz="0.0031774 0.017383 0.00090008"
        rpy="0 0 0" />
      <mass
        value="0.05" />
      <inertia
        ixx="6.6232E-07"
        ixy="1.5775E-08"
        ixz="1.8782E-12"
        iyy="2.1146E-07"
        iyz="5.067E-12"
        izz="6.9398E-07" />
    </inertial>
    <visual>
      <origin
        xyz="0 0 0"
        rpy="0 0 0" />
      <geometry>
        <mesh
          filename="index_link_0.STL" />
      </geometry>
      <material
        name="">
        <color
          rgba="1 1 1 1" />
      </material>
    </visual>
    <collision>
      <origin
        xyz="0 0 0"
        rpy="0 0 0" />
      <geometry>
        <mesh
          filename="index_link_0.STL" />
      </geometry>
    </collision>
  </link>

  <joint
    name="index_joint_1"
    type="revolute">
    <origin
      xyz="0.0070171 0.037468 -0.00215"
      rpy="0 0 0" />
  <parent
      link="index_link_0" />
  <child
      link="index_link_1" />
    <axis
      xyz="0 0 -1" />
    <limit
      lower="0"
      upper="1.7"
      effort="50"
      velocity="1" />
    <mimic joint="index_joint_0" multiplier="1.54545" offset="0" />
  </joint>

  <link
    name="index_link_1">
    <inertial>
      <origin
        xyz="-0.0019697 0.019589 0.00305"
        rpy="0 0 0" />
      <mass
        value="0.025" />
      <inertia
        ixx="7.6111E-07"
        ixy="-8.7637E-08"
        ixz="-4.2766E-13"
        iyy="9.6076E-08"
        iyz="-1.2085E-12"
        izz="7.8179E-07" />
    </inertial>
    <visual>
      <origin
        xyz="0 0 0"
        rpy="0 0 0" />
      <geometry>
        <mesh
          filename="index_link_1.STL" />
      </geometry>
      <material
        name="">
        <color
          rgba="1 1 1 1" />
      </material>
    </visual>
    <collision>
      <origin
        xyz="0 0 0"
        rpy="0 0 0" />
      <geometry>
        <mesh
          filename="index_link_1.STL" />
      </geometry>
    </collision>
  </link>

  <joint name="index_tip_fixed" type="fixed">
    <origin xyz="0.005 0.035 0.002" rpy="0 0 0" />
    <parent link="index_link_1" />
    <child link="index_tip" />
  </joint>

  <link name="index_tip">
    <inertial>
      <origin xyz="0 0 0" rpy="0 0 0" />
      <mass value="1e-6" />
      <inertia ixx="1e-9" ixy="0" ixz="0" iyy="1e-9" iyz="0" izz="1e-9" />
    </inertial>
  </link>

<!-- middle finger -->

  <joint
    name="middle_joint_0"
    type="revolute">
    <origin
      xyz="0.00028533 -0.1371 -0.00795"
      rpy="0 0 3.1416" />
    <parent link="palm" />
    <child link="middle_link_0" />
    <axis xyz="0 0 -1" />
    <limit
      lower="0"
      upper="1.1"
      effort="50"
      velocity="1" />
  </joint>

  <link
    name="middle_link_0">
    <inertial>
      <origin
        xyz="0.0030737 0.017402 0.00090013"
        rpy="0 0 0" />
      <mass
        value="0.05" />
      <inertia
        ixx="6.6211E-07"
        ixy="1.8461E-08"
        ixz="1.798E-12"
        iyy="2.1167E-07"
        iyz="6.6568E-12"
        izz="6.9397E-07" />
    </inertial>
    <visual>
      <origin
        xyz="0 0 0"
        rpy="0 0 0" />
      <geometry>
        <mesh
          filename="middle_link_0.STL" />
      </geometry>
      <material
        name="">
        <color
          rgba="1 1 1 1" />
      </material>
    </visual>
    <collision>
      <origin
        xyz="0 0 0"
        rpy="0 0 0" />
      <geometry>
        <mesh
          filename="middle_link_0.STL" />
      </geometry>
    </collision>
  </link>

  <joint
    name="middle_joint_1"
    type="revolute">
    <origin
      xyz="0.0067937 0.037509 -0.00215"
      rpy="0 0 0" />
    <parent
      link="middle_link_0" />
    <child
      link="middle_link_1" />
    <axis
      xyz="0 0 -1" />
    <limit
      lower="0"
      upper="1.7"
      effort="50"
      velocity="1" />
    <mimic joint="middle_joint_0" multiplier="1.54545" offset="0" />
  </joint>

  <link
    name="middle_link_1">
    <inertial>
      <origin
        xyz="-0.001921 0.020796 0.00305"
        rpy="0 0 0" />
      <mass
        value="0.025" />
      <inertia
        ixx="9.5822E-07"
        ixy="-1.1425E-07"
        ixz="-2.4866E-12"
        iyy="1.0646E-07"
        iyz="-5.9101E-12"
        izz="9.8384E-07" />
    </inertial>
    <visual>
      <origin
        xyz="0 0 0"
        rpy="0 0 0" />
      <geometry>
        <mesh
          filename="middle_link_1.STL" />
      </geometry>
      <material
        name="">
        <color
          rgba="1 1 1 1" />
      </material>
    </visual>
    <collision>
      <origin
        xyz="0 0 0"
        rpy="0 0 0" />
      <geometry>
        <mesh
          filename="middle_link_1.STL" />
      </geometry>
    </collision>
  </link>

  <joint name="middle_tip_fixed" type="fixed">
    <origin xyz="0.005 0.035 0.002" rpy="0 0 0" />
    <parent link="middle_link_1" />
    <child link="middle_tip" />
  </joint>

  <link name="middle_tip">
    <inertial>
      <origin xyz="0 0 0" rpy="0 0 0" />
      <mass value="1e-6" />
      <inertia ixx="1e-9" ixy="0" ixz="0" iyy="1e-9" iyz="0" izz="1e-9" />
    </inertial>
  </link>
  
 <!-- ring finger -->
  <joint
    name="ring_joint_0"
    type="revolute">
    <origin
      xyz="0.00028533 -0.13681 0.0112844"
      rpy="0.05236 0 -3.1416" />
    <parent link="palm" />
    <child link="ring_link_0" />
    <axis xyz="0 0 -1" />
    <limit
      lower="0"
      upper="1.1"
      effort="50"
      velocity="1" />
  </joint>

  <link
    name="ring_link_0">
    <inertial>
      <origin
        xyz="0.0030737 0.017402 0.00090015"
        rpy="0 0 0" />
      <mass
        value="0.05" />
      <inertia
        ixx="6.6211E-07"
        ixy="1.8461E-08"
        ixz="1.5739E-12"
        iyy="2.1167E-07"
        iyz="6.6326E-12"
        izz="6.9397E-07" />
    </inertial>
    <visual>
      <origin
        xyz="0 0 0"
        rpy="0 0 0" />
      <geometry>
        <mesh
          filename="ring_link_0.STL" />
      </geometry>
      <material
        name="">
        <color
          rgba="1 1 1 1" />
      </material>
    </visual>
    <collision>
      <origin
        xyz="0 0 0"
        rpy="0 0 0" />
      <geometry>
        <mesh
          filename="ring_link_0.STL" />
      </geometry>
    </collision>
  </link>

  <joint
    name="ring_joint_1"
    type="revolute">
    <origin
      xyz="0.0067937 0.037509 -0.00215"
      rpy="0 0 0" />
    <parent
      link="ring_link_0" />
    <child
      link="ring_link_1" />
    <axis
      xyz="0 0 -1" />
    <limit
      lower="0"
      upper="1.7"
      effort="50"
      velocity="1" />
    <mimic joint="ring_joint_0" multiplier="1.54545" offset="0" />
  </joint>

  <link
    name="ring_link_1">
    <inertial>
      <origin
        xyz="-0.0021753 0.019567 0.00305"
        rpy="0 0 0" />
      <mass
        value="0.025" />
      <inertia
        ixx="7.6286E-07"
        ixy="-8.0635E-08"
        ixz="-6.1735E-13"
        iyy="9.431E-08"
        iyz="-5.5495E-13"
        izz="7.8177E-07" />
    </inertial>
    <visual>
      <origin
        xyz="0 0 0"
        rpy="0 0 0" />
      <geometry>
        <mesh
          filename="ring_link_1.STL" />
      </geometry>
      <material
        name="">
        <color
          rgba="1 1 1 1" />
      </material>
    </visual>
    <collision>
      <origin
        xyz="0 0 0"
        rpy="0 0 0" />
      <geometry>
        <mesh
          filename="ring_link_1.STL" />
      </geometry>
    </collision>
  </link>

  <joint name="ring_tip_fixed" type="fixed">
    <origin xyz="0.005 0.035 0.002" rpy="0 0 0" />
    <parent link="ring_link_1" />
    <child link="ring_tip" />
  </joint>

  <link name="ring_tip">
    <inertial>
      <origin xyz="0 0 0" rpy="0 0 0" />
      <mass value="1e-6" />
      <inertia ixx="1e-9" ixy="0" ixz="0" iyy="1e-9" iyz="0" izz="1e-9" />
    </inertial>
  </link>

<!-- little finger -->
  <joint name="little_joint_0" type="revolute">
  <!-- The joint origin defines the transform from parent link to joint frame -->
  <origin xyz="0.00028533 -0.13551 0.030477" rpy="0.10472 0 -3.1416"/>

  <!-- Parent and child links -->
  <parent link="palm"/>
  <child link="little_link_0"/>

    <!-- Axis of rotation (in joint frame) -->
    <axis xyz="0 0 -1"/>

    <!-- Joint limits -->
    <limit lower="0" upper="1.1" effort="100.0" velocity="1.0"/>
  </joint>

  <link
    name="little_link_0">
    <inertial>
      <origin
        xyz="0.0030737 0.017402 0.00090014"
        rpy="0 0 0" />
      <mass
        value="0.05" />
      <inertia
        ixx="6.6211E-07"
        ixy="1.8461E-08"
        ixz="1.6126E-12"
        iyy="2.1167E-07"
        iyz="6.6785E-12"
        izz="6.9398E-07" />
    </inertial>
    <visual>
      <origin
        xyz="0 0 0"
        rpy="0 0 0" />
      <geometry>
        <mesh
          filename="little_link_0.STL" />
      </geometry>
      <material
        name="">
        <color
          rgba="1 1 1 1" />
      </material>
    </visual>
    <collision>
      <origin
        xyz="0 0 0"
        rpy="0 0 0" />
      <geometry>
        <mesh
          filename="little_link_0.STL" />
      </geometry>
    </collision>
  </link>

  <joint
    name="little_joint_1"
    type="revolute">
    <origin
      xyz="0.0067937 0.037509 -0.00215"
      rpy="0 0 0" />
    <parent
      link="little_link_0" />
    <child
      link="little_link_1" />
    <axis
      xyz="0 0 -1" />
    <limit
      lower="0"
      upper="1.7"
      effort="50"
      velocity="1" />
    <mimic joint="little_joint_0" multiplier="1.54545" offset="0" />
  </joint>

  <link
    name="little_link_1">
    <inertial>
      <origin
        xyz="-0.0024748 0.016203 0.0030531"
        rpy="0 0 0" />
      <mass
        value="0.025" />
      <inertia
        ixx="4.3913E-07"
        ixy="-4.1418E-08"
        ixz="3.7169E-11"
        iyy="7.0247E-08"
        iyz="-5.8612E-11"
        izz="4.4867E-07" />
    </inertial>
    <visual>
      <origin
        xyz="0 0 0"
        rpy="0 0 0" />
      <geometry>
        <mesh
          filename="little_link_1.STL" />
      </geometry>
      <material
        name="">
        <color
          rgba="1 1 1 1" />
      </material>
    </visual>
    <collision>
      <origin
        xyz="0 0 0"
        rpy="0 0 0" />
      <geometry>
        <mesh
          filename="little_link_1.STL" />
      </geometry>
    </collision>
  </link>

  <joint name="little_tip_fixed" type="fixed">
    <origin xyz="0.005 0.035 0.003" rpy="0 0 0" />
    <parent link="little_link_1" />
    <child link="little_tip" />
  </joint>

  <link name="little_tip">
    <inertial>
      <origin xyz="0 0 0" rpy="0 0 0" />
      <mass value="1e-6" />
      <inertia ixx="1e-9" ixy="0" ixz="0" iyy="1e-9" iyz="0" izz="1e-9" />
    </inertial>
  </link>
 
  <!-- thumb -->
  
  
<joint name="thumb_joint_0" type="revolute">
  <!-- Transform from parent (base_link) to this joint frame -->
  <origin xyz="-0.02296 -0.05885 -0.02045" rpy="1.5708 -1.5708 0"/>

  <!-- Parent and child links -->
  <parent link="palm"/>
  <child link="thumb_link_0"/>

  <!-- Axis of rotation -->
  <axis xyz="0 0 -1"/>

  <!-- Joint limits -->
  <limit lower="0.3" upper="1.2" effort="50.0" velocity="1.0"/>
</joint>

  <link
    name="thumb_link_0">
    <inertial>
      <origin
        xyz="-0.0078715 0.0065154 0.00388"
        rpy="0 0 0" />
      <mass
        value="0.05" />
      <inertia
        ixx="5.816E-08"
        ixy="1.4539E-08"
        ixz="4.491E-09"
        iyy="7.9161E-08"
        iyz="-1.8727E-09"
        izz="6.7433E-08" />
    </inertial>
    <visual>
      <origin
        xyz="0 0 0"
        rpy="0 0 0" />
      <geometry>
        <mesh
          filename="thumb_link_0.STL" />
      </geometry>
      <material
        name="">
        <color
          rgba="1 1 1 1" />
      </material>
    </visual>
    <collision>
      <origin
        xyz="0 0 0"
        rpy="0 0 0" />
      <geometry>
        <mesh
          filename="thumb_link_0.STL" />
      </geometry>
    </collision>
  </link>

  <joint
    name="thumb_joint_1"
    type="revolute">
    <origin
      xyz="-0.012782 0.013348 0.0022"
      rpy="1.5708 0 2.8587" />
    <parent
      link="thumb_link_0" />
    <child
      link="thumb_link_1" />
    <axis
      xyz="0 0 1" />
    <limit
      lower="0"
      upper="0.5"
      effort="50"
      velocity="1" />
  </joint>

  <link
    name="thumb_link_1">
    <inertial>
      <origin
        xyz="0.021932 0.012785 -0.0047886"
        rpy="0 0 0" />
      <mass
        value="0.03" />
      <inertia
        ixx="1.5687E-06"
        ixy="-7.8296E-07"
        ixz="8.9144E-10"
        iyy="1.7353E-06"
        iyz="-1.0191E-09"
        izz="2.786E-06" />
    </inertial>
    <visual>
      <origin
        xyz="0 0 0"
        rpy="0 0 0" />
      <geometry>
        <mesh
          filename="thumb_link_1.STL" />
      </geometry>
      <material
        name="">
        <color
          rgba="1 1 1 1" />
      </material>
    </visual>
    <collision>
      <origin
        xyz="0 0 0"
        rpy="0 0 0" />
      <geometry>
        <mesh
          filename="thumb_link_1.STL" />
      </geometry>
    </collision>
  </link>

<joint name="thumb_joint_2" type="revolute">
  <!-- Transform from parent (Link44) to this joint frame -->
  <origin xyz="0.05507 0.025553 -0.00355" rpy="-3.1416 0 -3.1416"/>

  <!-- Parent and child links -->
  <parent link="thumb_link_1"/>
  <child link="thumb_link_2"/>

  <!-- Axis of rotation (in joint frame) -->
  <axis xyz="0 0 -1"/>

  <!-- Joint limits -->
  <limit lower="0" upper="0.5" effort="50.0" velocity="1.0"/>
  <mimic joint="thumb_joint_1" multiplier="1.0" offset="0" />
</joint>

  <link
    name="thumb_link_2">
    <inertial>
      <origin
        xyz="-0.0060688 0.011295 0.00099972"
        rpy="0 0 0" />
      <mass
        value="0.025" />
      <inertia
        ixx="3.6981E-07"
        ixy="9.8581E-08"
        ixz="-4.7472E-12"
        iyy="3.2394E-07"
        iyz="-1.0931E-12"
        izz="4.6531E-07" />
    </inertial>
    <visual>
      <origin
        xyz="0 0 0"
        rpy="0 0 0" />
      <geometry>
        <mesh
          filename="thumb_link_2.STL" />
      </geometry>
      <material
        name="">
        <color
          rgba="1 1 1 1" />
      </material>
    </visual>
    <collision>
      <origin
        xyz="0 0 0"
        rpy="0 0 0" />
      <geometry>
        <mesh
          filename="thumb_link_2.STL" />
      </geometry>
    </collision>
  </link>

  <joint
    name="thumb_joint_3"
    type="revolute">
    <origin
      xyz="-0.016763 0.023079 -0.00255"
      rpy="0 0 0" />
    <parent
      link="thumb_link_2" />
    <child
      link="thumb_link_3" />
    <axis
      xyz="0 0 -1" />
    <limit
      lower="0"
      upper="0.4"
      effort="50"
      velocity="1" />
    <mimic joint="thumb_joint_2" multiplier="0.8" offset="0" />
  </joint>

  <link
    name="thumb_link_3">
    <inertial>
      <origin
        xyz="-0.0092888 0.0049529 0.0035533"
        rpy="0 0 0" />
      <mass
        value="0.02" />
      <inertia
        ixx="1.3632E-07"
        ixy="5.6788E-08"
        ixz="-9.2801E-11"
        iyy="1.4052E-07"
        iyz="1.2283E-10"
        izz="2.0026E-07" />
    </inertial>
    <visual>
      <origin
        xyz="0 0 0"
        rpy="0 0 0" />
      <geometry>
        <mesh
          filename="thumb_link_3.STL" />
      </geometry>
      <material
        name="">
        <color
          rgba="1 1 1 1" />
      </material>
    </visual>
    <collision>
      <origin
        xyz="0 0 0"
        rpy="0 0 0" />
      <geometry>
        <mesh
          filename="thumb_link_3.STL" />
      </geometry>
    </collision>
  </link>

  <joint name="thumb_tip_fixed" type="fixed">
    <origin xyz="-0.01 0.015 0.005" rpy="0 0 0" />
    <parent link="thumb_link_3" />
    <child link="thumb_tip" />
  </joint>

  <link name="thumb_tip">
    <inertial>
      <origin xyz="0 0 0" rpy="0 0 0" />
      <mass value="1e-6" />
      <inertia ixx="1e-9" ixy="0" ixz="0" iyy="1e-9" iyz="0" izz="1e-9" />
    </inertial>
  </link>
</robot>
